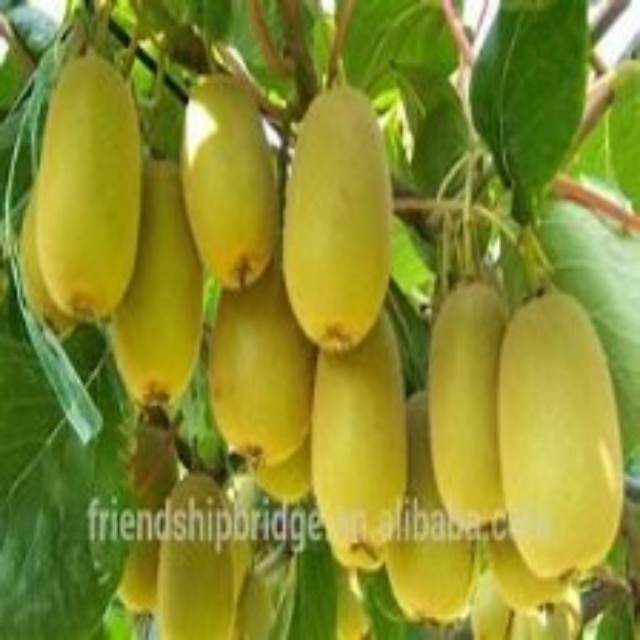kiwi: (496, 286, 622, 576), (22, 39, 140, 326), (413, 278, 531, 538), (305, 322, 400, 573), (297, 90, 390, 344), (215, 269, 325, 467), (114, 154, 197, 408), (176, 74, 277, 280), (380, 401, 470, 608), (141, 463, 242, 627)
